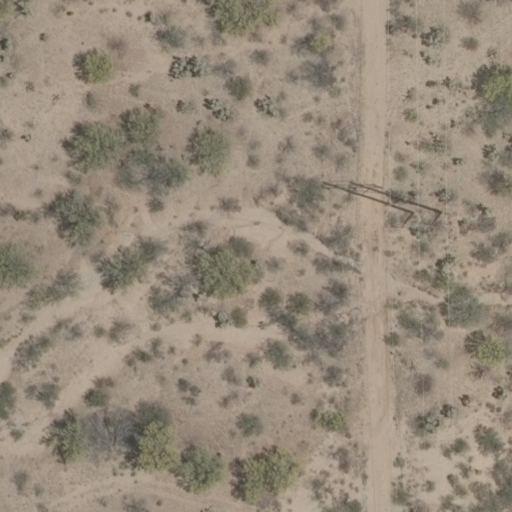DT: (384, 202, 458, 240)
